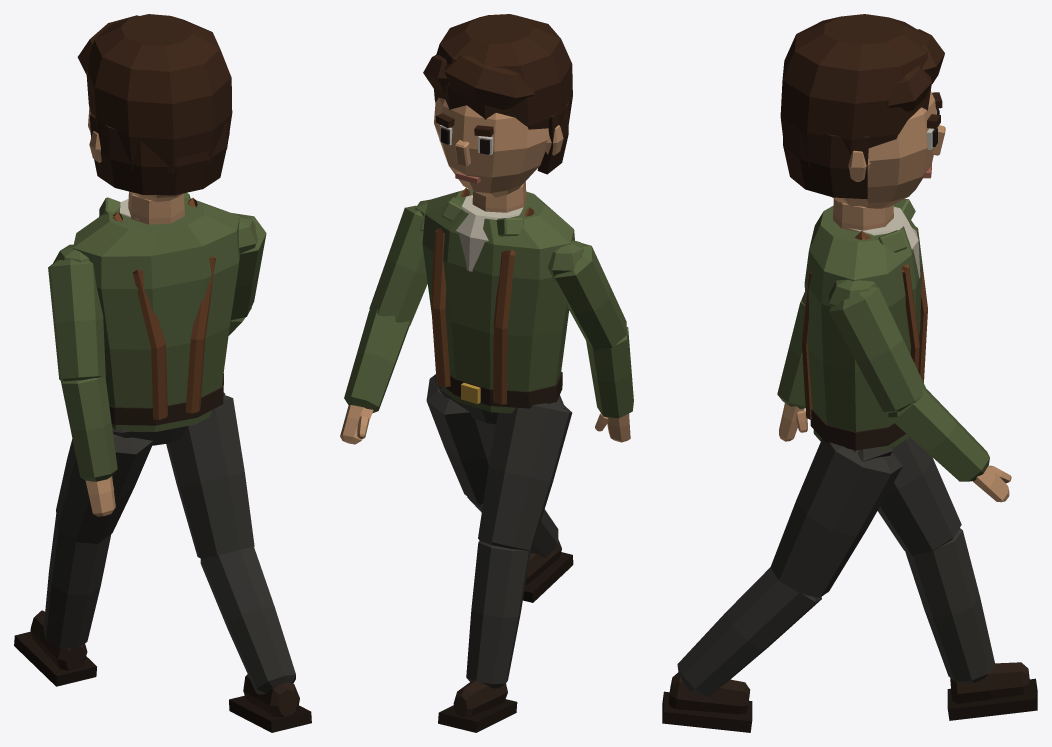
The model's file is chr_paul_w1.glb.
The picture shows the model from 3 angles, left to right: view 1: azimuth 30°, elevation 25°; view 2: azimuth 150°, elevation 25°; view 3: azimuth 270°, elevation 25°; orthographic projection. The views are drawn at different scales.
Parts seen in each view (by area): view 1: chr_paul_w1; view 2: chr_paul_w1; view 3: chr_paul_w1.
Boxes of the visible parts, x1=… form: chr_paul_w1: x1=14, y1=14, x2=311, y2=732; chr_paul_w1: x1=340, y1=14, x2=633, y2=732; chr_paul_w1: x1=662, y1=14, x2=1037, y2=732.
Size of the model in its own units: 0.6198 by 1.75 by 0.8487.
